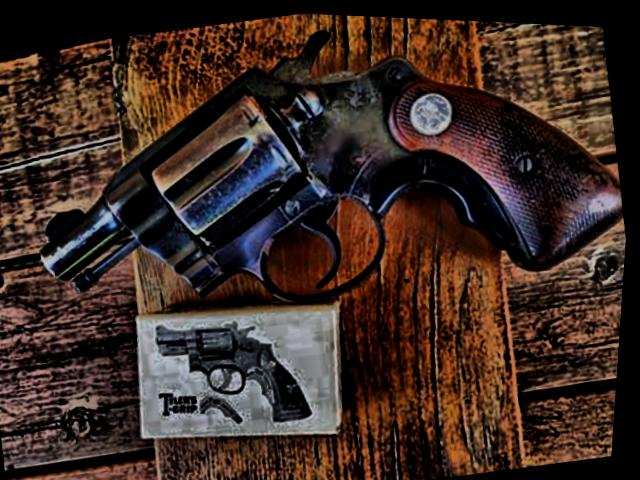pistol: (0, 1, 640, 355), (151, 296, 321, 440)
